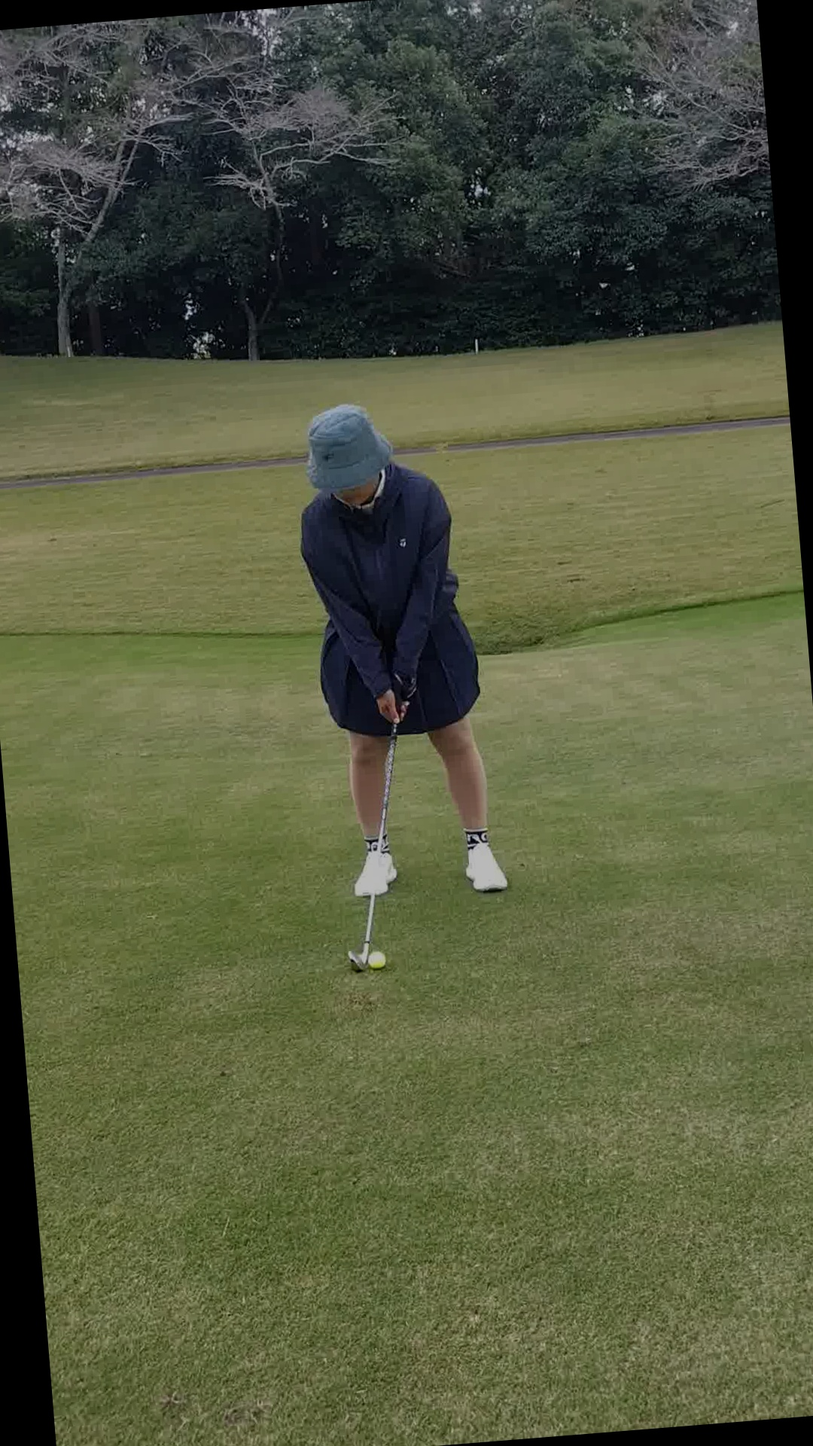clubhead: (263, 888, 474, 1054)
